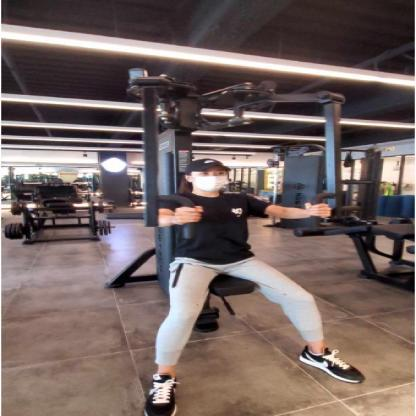chest fly machine: (2, 53, 416, 416)
